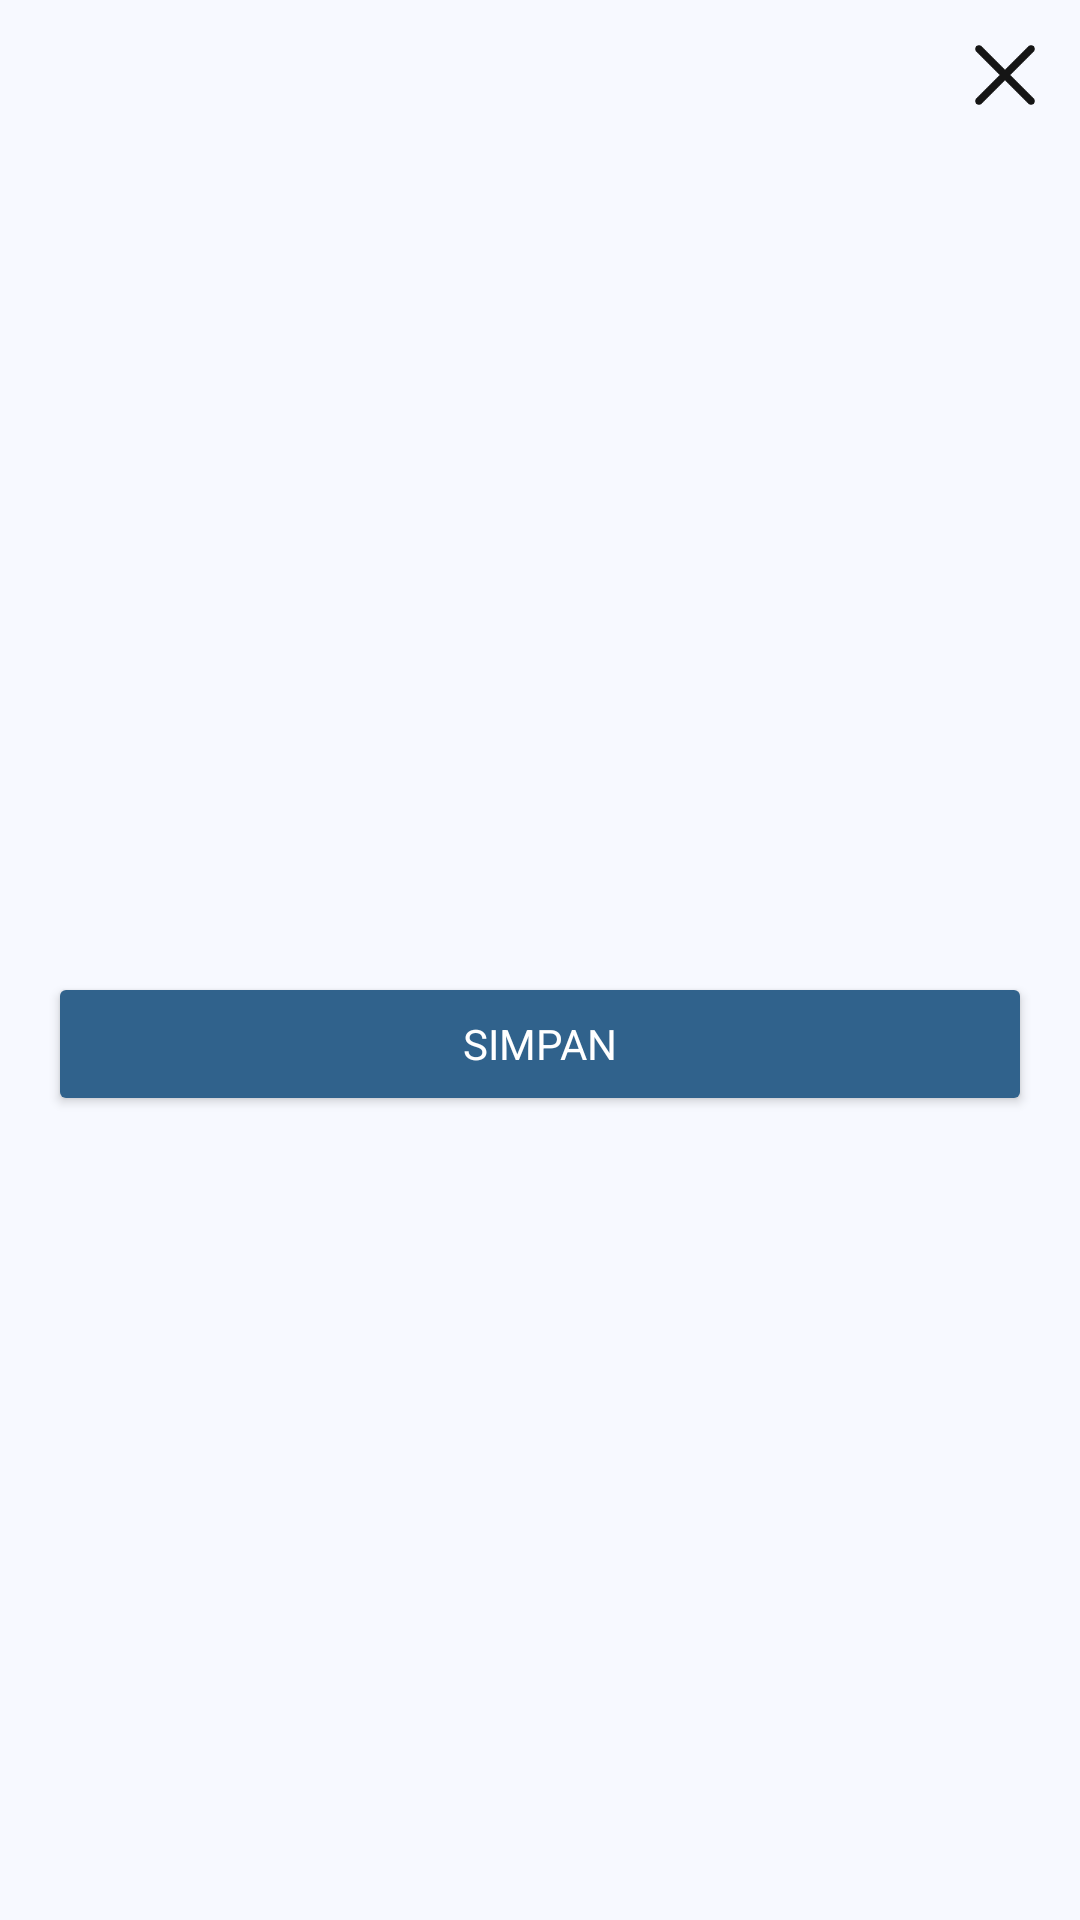

Point at icon controls on the screen. Image size 1080x1920, points as (x,y).
close: (1005,75)
